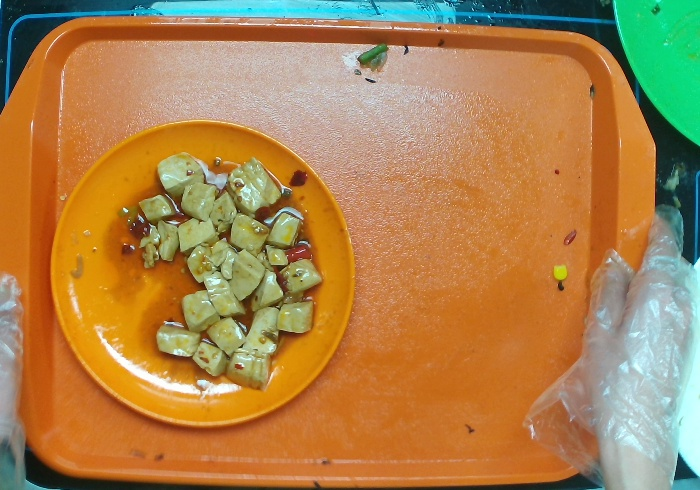HZYJPL-Ju_Huang_Yuan_Pan: (44, 112, 355, 431)
